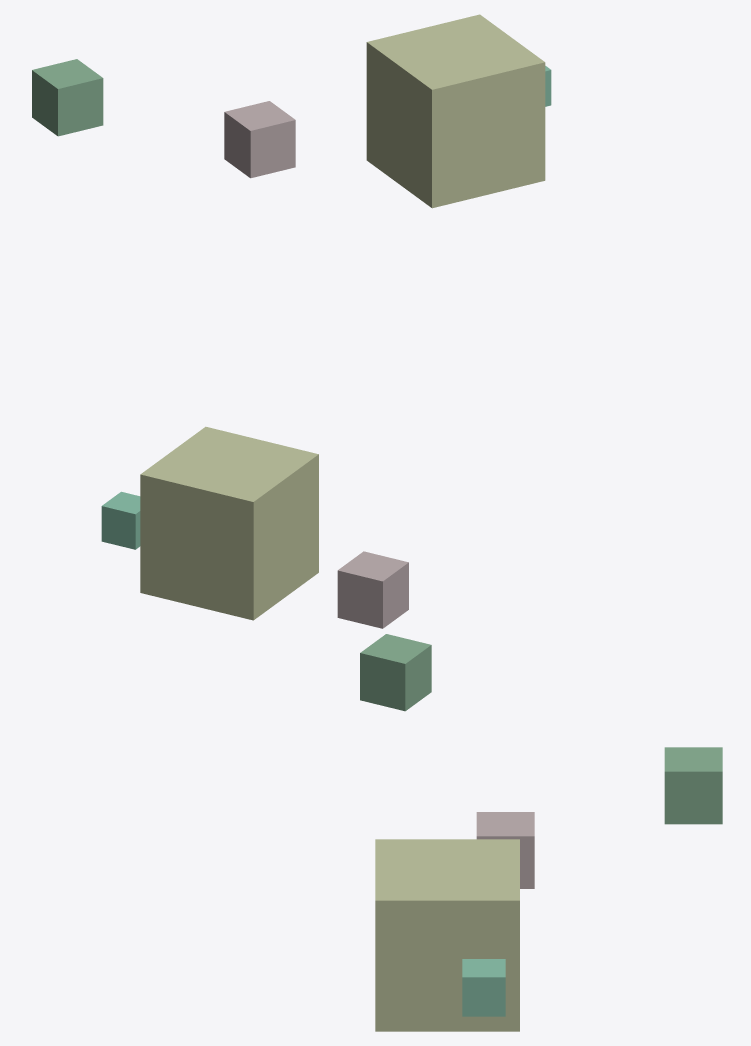
3 views of the same model, one above another, from view 1: azimuth 30°, elevation 25°; view 2: azimuth 150°, elevation 25°; view 3: azimuth 270°, elevation 25° (orthographic). The views are drawn at different scales.
Parts seen in each view (by area): view 1: bed, toilet, sink; view 2: bed, toilet, sink, nightstand; view 3: bed, sink, nightstand, toilet.
Part boxes in pixels (x1,y1,x2,y2): bed: (366,14,545,208); toilet: (224,101,295,178); sink: (32,59,103,136); bed: (140,426,318,620); toilet: (337,551,408,628); sink: (360,634,431,711); nightstand: (101,491,140,549); bed: (375,839,519,1031); sink: (664,747,722,824); nightstand: (462,959,505,1016); toilet: (476,812,534,888).
Bounding box in the file's own units: 7.3 × 2 × 10.
